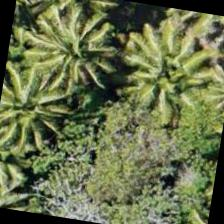Kelapa_Sawit: (14, 0, 118, 103), (107, 30, 210, 134), (0, 57, 78, 158)
